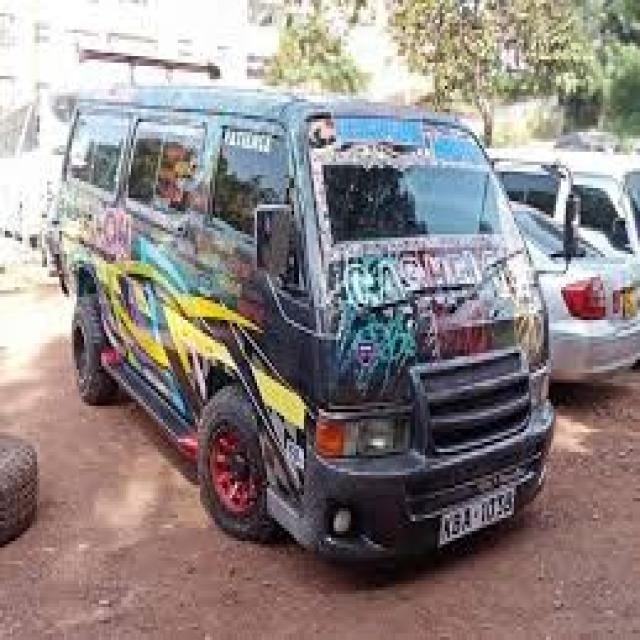matatu: (19, 17, 588, 594)
